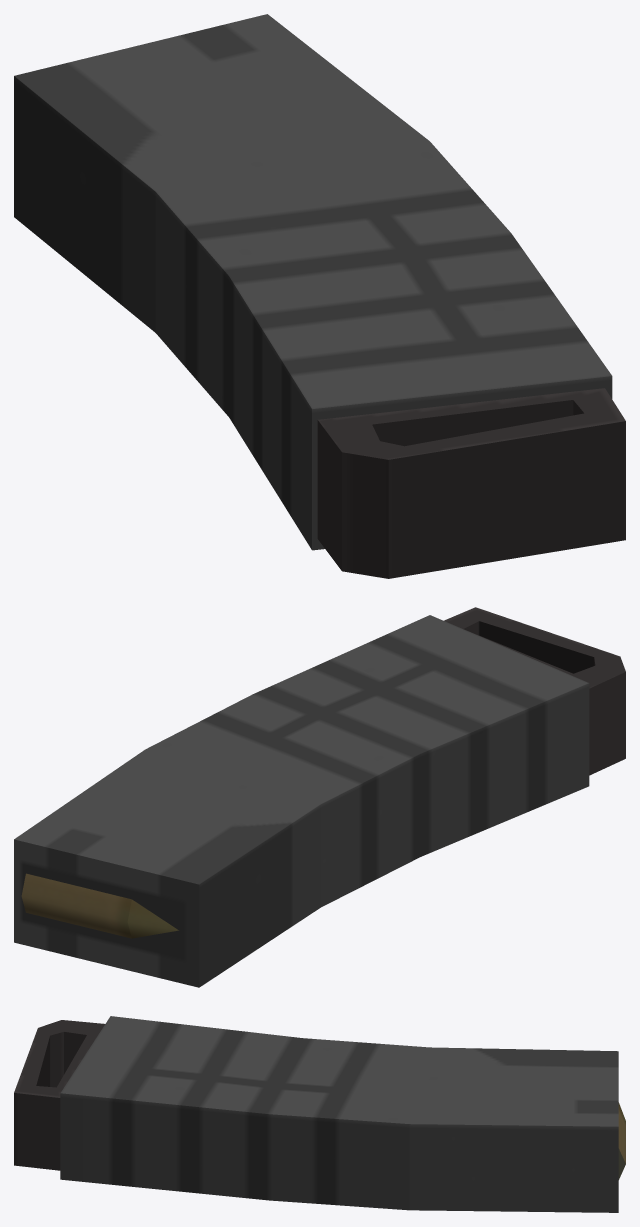
File: Magazines_ExtendedQuickdraw_Base_0_Mod.FBX
The picture shows the model from 3 angles, top to bottom: view 1: azimuth 30°, elevation 25°; view 2: azimuth 150°, elevation 25°; view 3: azimuth 270°, elevation 25°; orthographic projection. The views are drawn at different scales.
Visible parts, largest first — view 1: Magazines_ExtendedQuickdraw_Base_0_Mod; view 2: Magazines_ExtendedQuickdraw_Base_0_Mod; view 3: Magazines_ExtendedQuickdraw_Base_0_Mod.
Part boxes in pixels (<box>): Magazines_ExtendedQuickdraw_Base_0_Mod: <box>14,14,625,578</box>; Magazines_ExtendedQuickdraw_Base_0_Mod: <box>14,607,625,987</box>; Magazines_ExtendedQuickdraw_Base_0_Mod: <box>14,1016,625,1212</box>.
Bounding box in the file's own units: 14.54 × 5.15 × 33.08.
